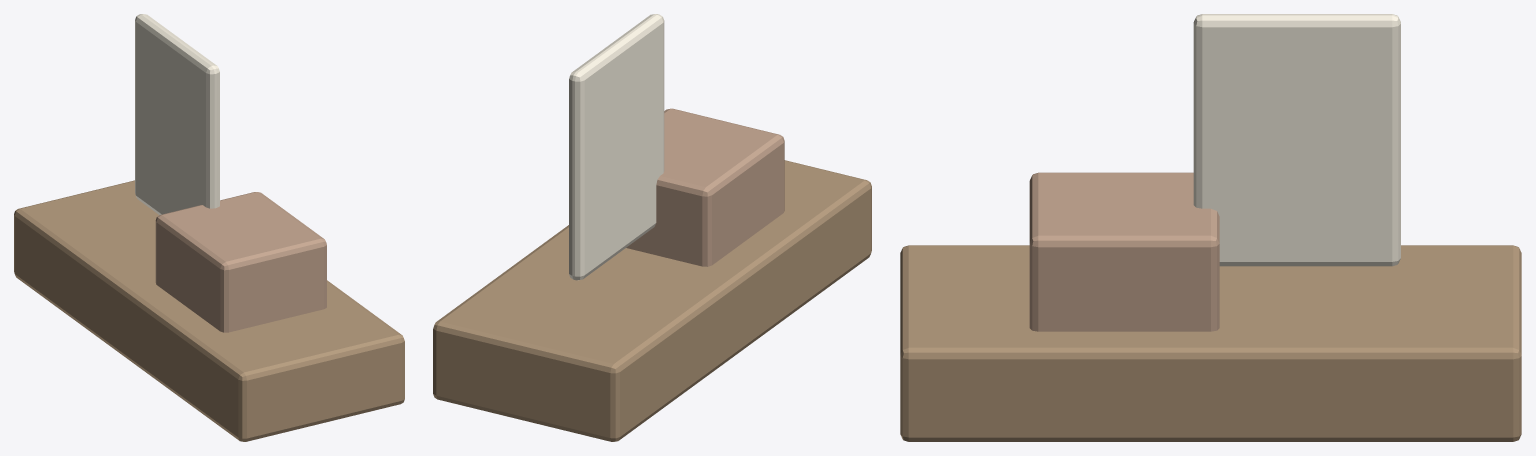
The model's file is barge.glb.
3 views of the same model, side by side, from view 1: azimuth 30°, elevation 25°; view 2: azimuth 150°, elevation 25°; view 3: azimuth 270°, elevation 25° (orthographic). The views are drawn at different scales.
Parts seen in each view (by area): view 1: hull.001, cabin.001, sail.001; view 2: hull.001, sail.001, cabin.001; view 3: hull.001, sail.001, cabin.001.
Part boxes in pixels (x1,y1,x2,y2): hull.001: (14, 180, 404, 441); cabin.001: (155, 192, 326, 332); sail.001: (135, 14, 219, 214); hull.001: (433, 160, 871, 441); sail.001: (569, 14, 664, 280); cabin.001: (626, 108, 784, 266); hull.001: (900, 245, 1521, 441); sail.001: (1193, 14, 1400, 266); cabin.001: (1029, 172, 1219, 331).
Bounding box in the file's own units: 0.75 × 1.2 × 1.8.
